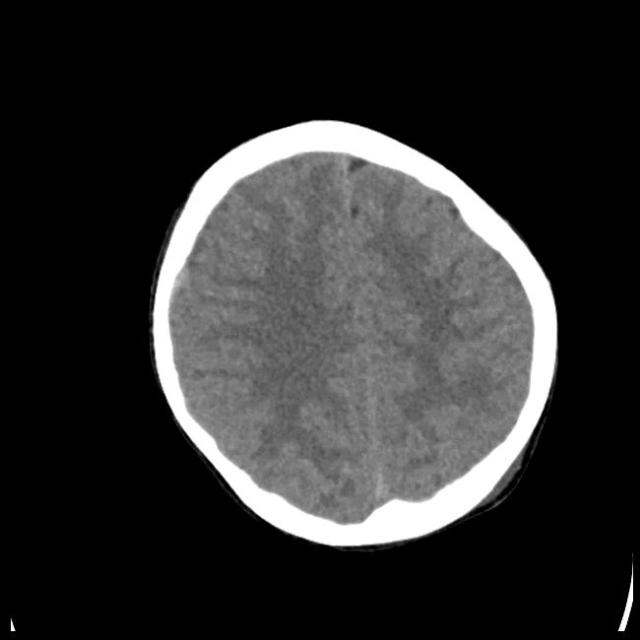lesion: (146, 118, 562, 552)
